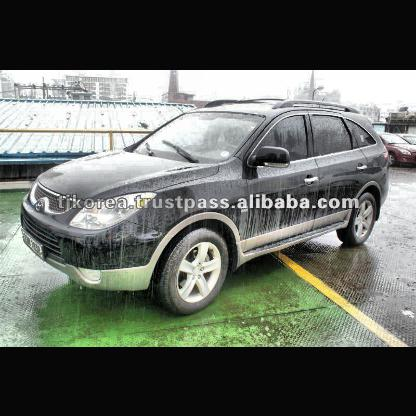Hyundai Veracruz SUV 2012: (19, 100, 391, 315)
